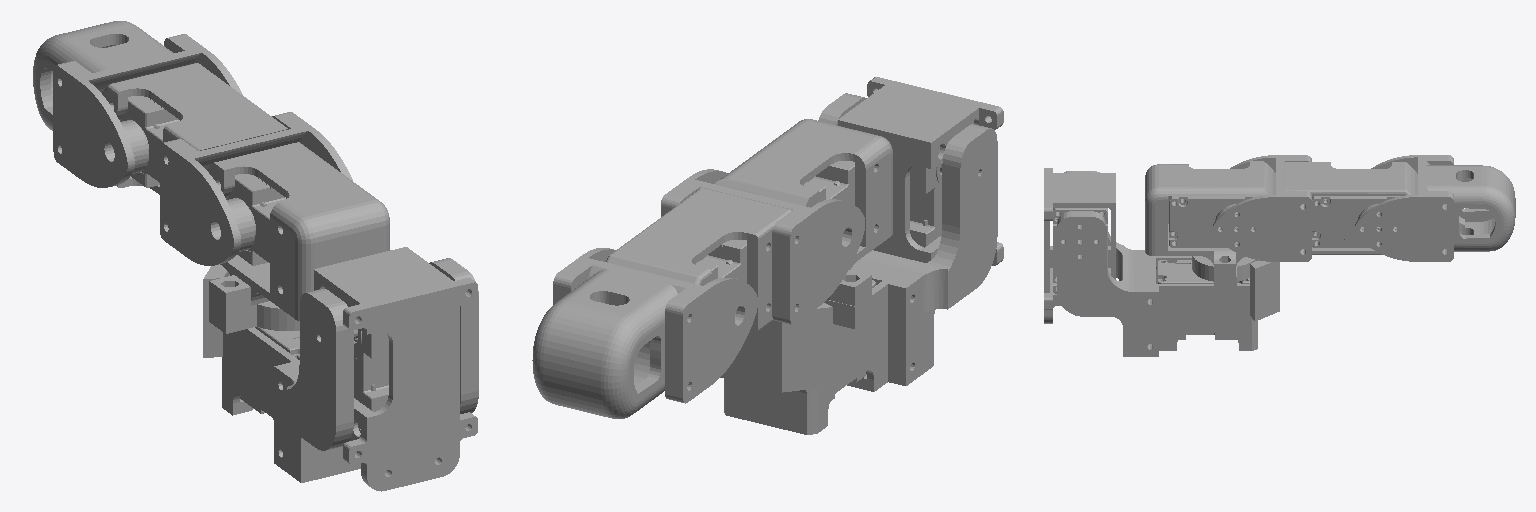
The robot description file, URDF, robot "finger":
<?xml version="1.0" ?>
<!-- =================================================================================== -->
<!-- |    This document was autogenerated by xacro from [local-path]/projects/moveit_HWI/src/finger_description/urdf/finger.xacro | -->
<!-- |    EDITING THIS FILE BY HAND IS NOT RECOMMENDED                                 | -->
<!-- =================================================================================== -->
<robot name="finger">
    <material name="silver">
        <color rgba="0.700 0.700 0.700 1.000" />
    </material>
    <transmission name="mcp_tran">
        <type>transmission_interface/SimpleTransmission</type>
        <joint name="mcp">
            <hardwareInterface>hardware_interface/EffortJointInterface</hardwareInterface>
        </joint>
        <actuator name="mcp_actr">
            <hardwareInterface>hardware_interface/EffortJointInterface</hardwareInterface>
            <mechanicalReduction>1</mechanicalReduction>
        </actuator>
    </transmission>
    <transmission name="pip_tran">
        <type>transmission_interface/SimpleTransmission</type>
        <joint name="pip">
            <hardwareInterface>hardware_interface/EffortJointInterface</hardwareInterface>
        </joint>
        <actuator name="pip_actr">
            <hardwareInterface>hardware_interface/EffortJointInterface</hardwareInterface>
            <mechanicalReduction>1</mechanicalReduction>
        </actuator>
    </transmission>
    <transmission name="dip_tran">
        <type>transmission_interface/SimpleTransmission</type>
        <joint name="dip">
            <hardwareInterface>hardware_interface/EffortJointInterface</hardwareInterface>
        </joint>
        <actuator name="dip_actr">
            <hardwareInterface>hardware_interface/EffortJointInterface</hardwareInterface>
            <mechanicalReduction>1</mechanicalReduction>
        </actuator>
    </transmission>
    <gazebo>
        <plugin filename="libgazebo_ros_control.so" name="control" />
        <plugin name="gazebo_ros_control">
            <robotNamespace>/</robotNamespace>
        </plugin>
    </gazebo>
    <gazebo reference="base_link">
        <material>Gazebo/Silver</material>
        <mu1>0.2</mu1>
        <mu2>0.2</mu2>
        <selfCollide>true</selfCollide>
        <gravity>true</gravity>
    </gazebo>
    <gazebo reference="lateral_1">
        <material>Gazebo/Silver</material>
        <mu1>0.2</mu1>
        <mu2>0.2</mu2>
        <selfCollide>true</selfCollide>
    </gazebo>
    <gazebo reference="middle_1">
        <material>Gazebo/Silver</material>
        <mu1>0.2</mu1>
        <mu2>0.2</mu2>
        <selfCollide>true</selfCollide>
    </gazebo>
    <gazebo reference="distal_1">
        <material>Gazebo/Silver</material>
        <mu1>0.2</mu1>
        <mu2>0.2</mu2>
        <selfCollide>true</selfCollide>
    </gazebo>
    <link name="base_link">
        <inertial>
            <origin rpy="0 0 0" xyz="0.16887252148389836 0.04577342816138104 0.07823509357532026" />
            <mass value="0.18436764983478113" />
            <inertia ixx="4e-05" ixy="-0.0" ixz="-1e-06" iyy="4.1e-05" iyz="-1e-06" izz="2e-05" />
        </inertial>
        <visual>
            <origin rpy="0 0 0" xyz="0 0 0" />
            <geometry>
                <mesh filename="package://finger_description/meshes/base_link.stl" scale="0.001 0.001 0.001" />
            </geometry>
            <material name="silver" />
        </visual>
        <collision>
            <origin rpy="0 0 0" xyz="0 0 0" />
            <geometry>
                <mesh filename="package://finger_description/meshes/base_link.stl" scale="0.001 0.001 0.001" />
            </geometry>
        </collision>
    </link>
    <link name="lateral_1">
        <inertial>
            <origin rpy="0 0 0" xyz="-0.012881529511754003 0.03954619195738879 -0.015274493618100043" />
            <mass value="0.5774156891557832" />
            <inertia ixx="0.000409" ixy="-8e-06" ixz="-4e-06" iyy="0.000237" iyz="-2.3e-05" izz="0.00028" />
        </inertial>
        <visual>
            <origin rpy="0 0 0" xyz="-0.1835 -0.04622 -0.087809" />
            <geometry>
                <mesh filename="package://finger_description/meshes/lateral_1.stl" scale="0.001 0.001 0.001" />
            </geometry>
            <material name="silver" />
        </visual>
        <collision>
            <origin rpy="0 0 0" xyz="-0.1835 -0.04622 -0.087809" />
            <geometry>
                <mesh filename="package://finger_description/meshes/lateral_1.stl" scale="0.001 0.001 0.001" />
            </geometry>
        </collision>
    </link>
    <link name="middle_1">
        <inertial>
            <origin rpy="0 0 0" xyz="-0.01530422251663821 0.03663619236573172 -0.00011183550752595639" />
            <mass value="0.23665678569349335" />
            <inertia ixx="8.1e-05" ixy="-5e-06" ixz="-0.0" iyy="3.3e-05" iyz="1e-06" izz="8.9e-05" />
        </inertial>
        <visual>
            <origin rpy="0 0 0" xyz="-0.1865 -0.102972 -0.092809" />
            <geometry>
                <mesh filename="package://finger_description/meshes/middle_1.stl" scale="0.001 0.001 0.001" />
            </geometry>
            <material name="silver" />
        </visual>
        <collision>
            <origin rpy="0 0 0" xyz="-0.1865 -0.102972 -0.092809" />
            <geometry>
                <mesh filename="package://finger_description/meshes/middle_1.stl" scale="0.001 0.001 0.001" />
            </geometry>
        </collision>
    </link>
    <link name="distal_1">
        <inertial>
            <origin rpy="0 0 0" xyz="-0.016591342948051008 0.0249615131852991 -9.43911974680689e-05" />
            <mass value="0.11952821014405499" />
            <inertia ixx="2.8e-05" ixy="-2e-06" ixz="0.0" iyy="2.2e-05" iyz="0.0" izz="3.5e-05" />
        </inertial>
        <visual>
            <origin rpy="0 0 0" xyz="-0.1865 -0.154676 -0.092856" />
            <geometry>
                <mesh filename="package://finger_description/meshes/distal_1.stl" scale="0.001 0.001 0.001" />
            </geometry>
            <material name="silver" />
        </visual>
        <collision>
            <origin rpy="0 0 0" xyz="-0.1865 -0.154676 -0.092856" />
            <geometry>
                <mesh filename="package://finger_description/meshes/distal_1.stl" scale="0.001 0.001 0.001" />
            </geometry>
        </collision>
    </link>
    <joint name="mcp" type="continuous">
        <origin rpy="0 0 0" xyz="0.1835 0.04622 0.087809" />
        <parent link="base_link" />
        <child link="lateral_1" />
        <axis xyz="-1.0 0.0 -0.0" />
    </joint>
    <joint name="pip" type="continuous">
        <origin rpy="0 0 0" xyz="0.003 0.056752 0.005" />
        <parent link="lateral_1" />
        <child link="middle_1" />
        <axis xyz="1.0 0.0 0.0" />
    </joint>
    <joint name="dip" type="continuous">
        <origin rpy="0 0 0" xyz="0.0 0.051704 4.7e-05" />
        <parent link="middle_1" />
        <child link="distal_1" />
        <axis xyz="1.0 0.0 0.0" />
    </joint>
</robot>

--- Facts derived from the render (not from the file) ---
Views: 3 orthographic renders of the robot side by side, from view 1: azimuth 30°, elevation 25°; view 2: azimuth 150°, elevation 25°; view 3: azimuth 270°, elevation 25°.
Robot: finger — 4 links, 3 joints (3 continuous); root link base_link; default pose: all joints at 0.
Visible links, largest first — view 1: lateral_1, base_link, middle_1, distal_1; view 2: lateral_1, distal_1, middle_1, base_link; view 3: lateral_1, middle_1, distal_1, base_link.
Link boxes in pixels (x1=…): lateral_1: x1=203, y1=142, x2=478, y2=482; base_link: x1=314, y1=247, x2=477, y2=491; middle_1: x1=102, y1=63, x2=352, y2=265; distal_1: x1=33, y1=21, x2=242, y2=187; lateral_1: x1=715, y1=93, x2=997, y2=434; distal_1: x1=532, y1=248, x2=757, y2=418; middle_1: x1=606, y1=169, x2=864, y2=332; base_link: x1=838, y1=77, x2=1003, y2=265; lateral_1: x1=1057, y1=161, x2=1279, y2=356; middle_1: x1=1213, y1=155, x2=1417, y2=261; distal_1: x1=1355, y1=155, x2=1515, y2=261; base_link: x1=1044, y1=168, x2=1115, y2=323.
Bounding box of the posed robot: 0.042 × 0.171 × 0.064 m (x, y, z).
Meshes: 4 distinct files referenced, 4 mesh visuals loaded (4 binary STL).